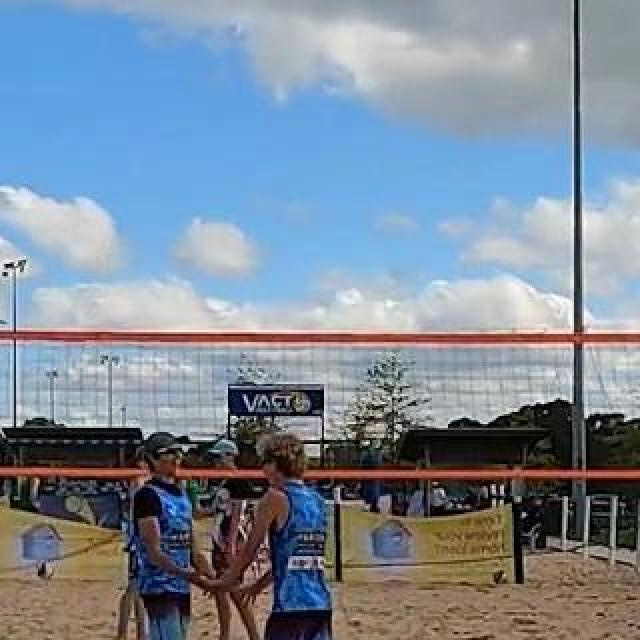volleyball: (37, 562, 55, 582), (492, 570, 508, 586)
